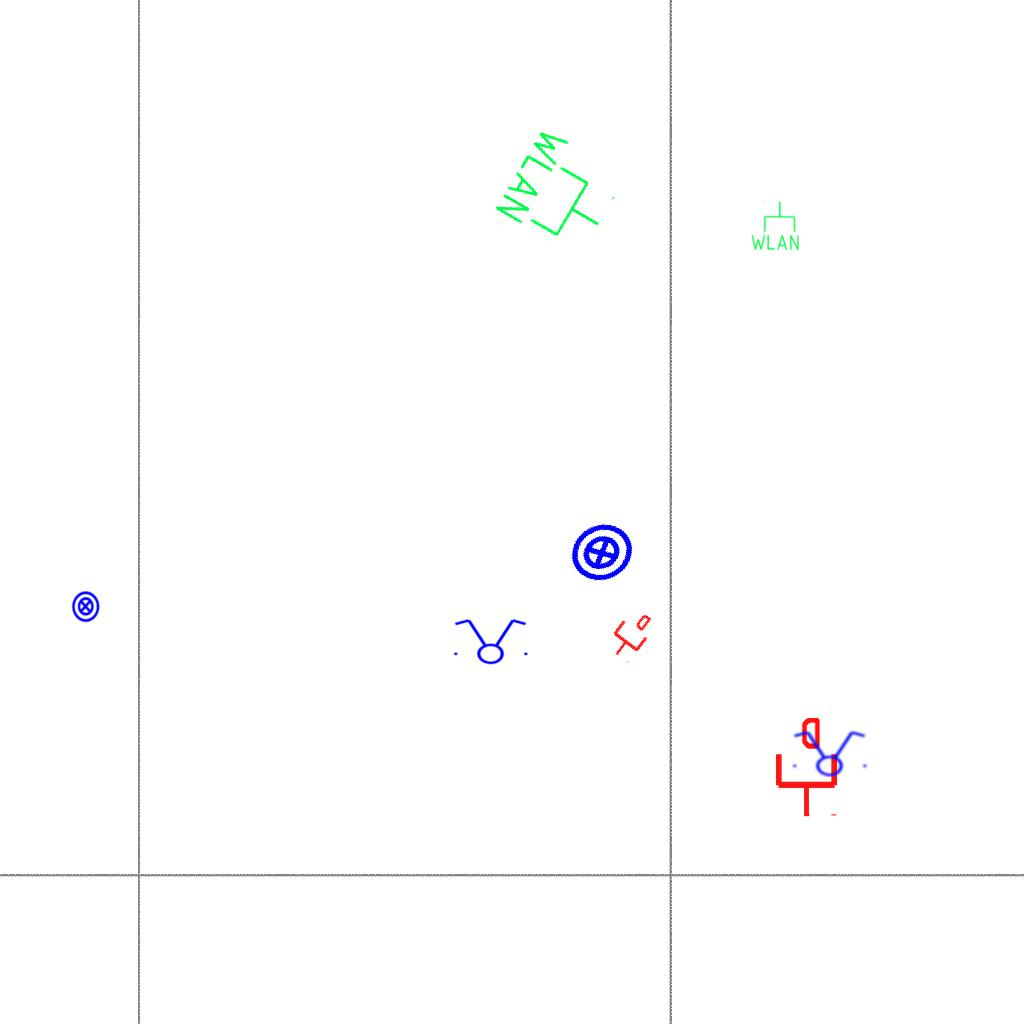Datenanschluss_einfach: (772, 718, 841, 818), (602, 604, 660, 666)
Serienschalter: (448, 617, 532, 665), (787, 729, 871, 777)
Taster_beleuchtet: (557, 508, 647, 598), (69, 590, 102, 623)
WLAN: (489, 120, 633, 263), (749, 200, 801, 252)
